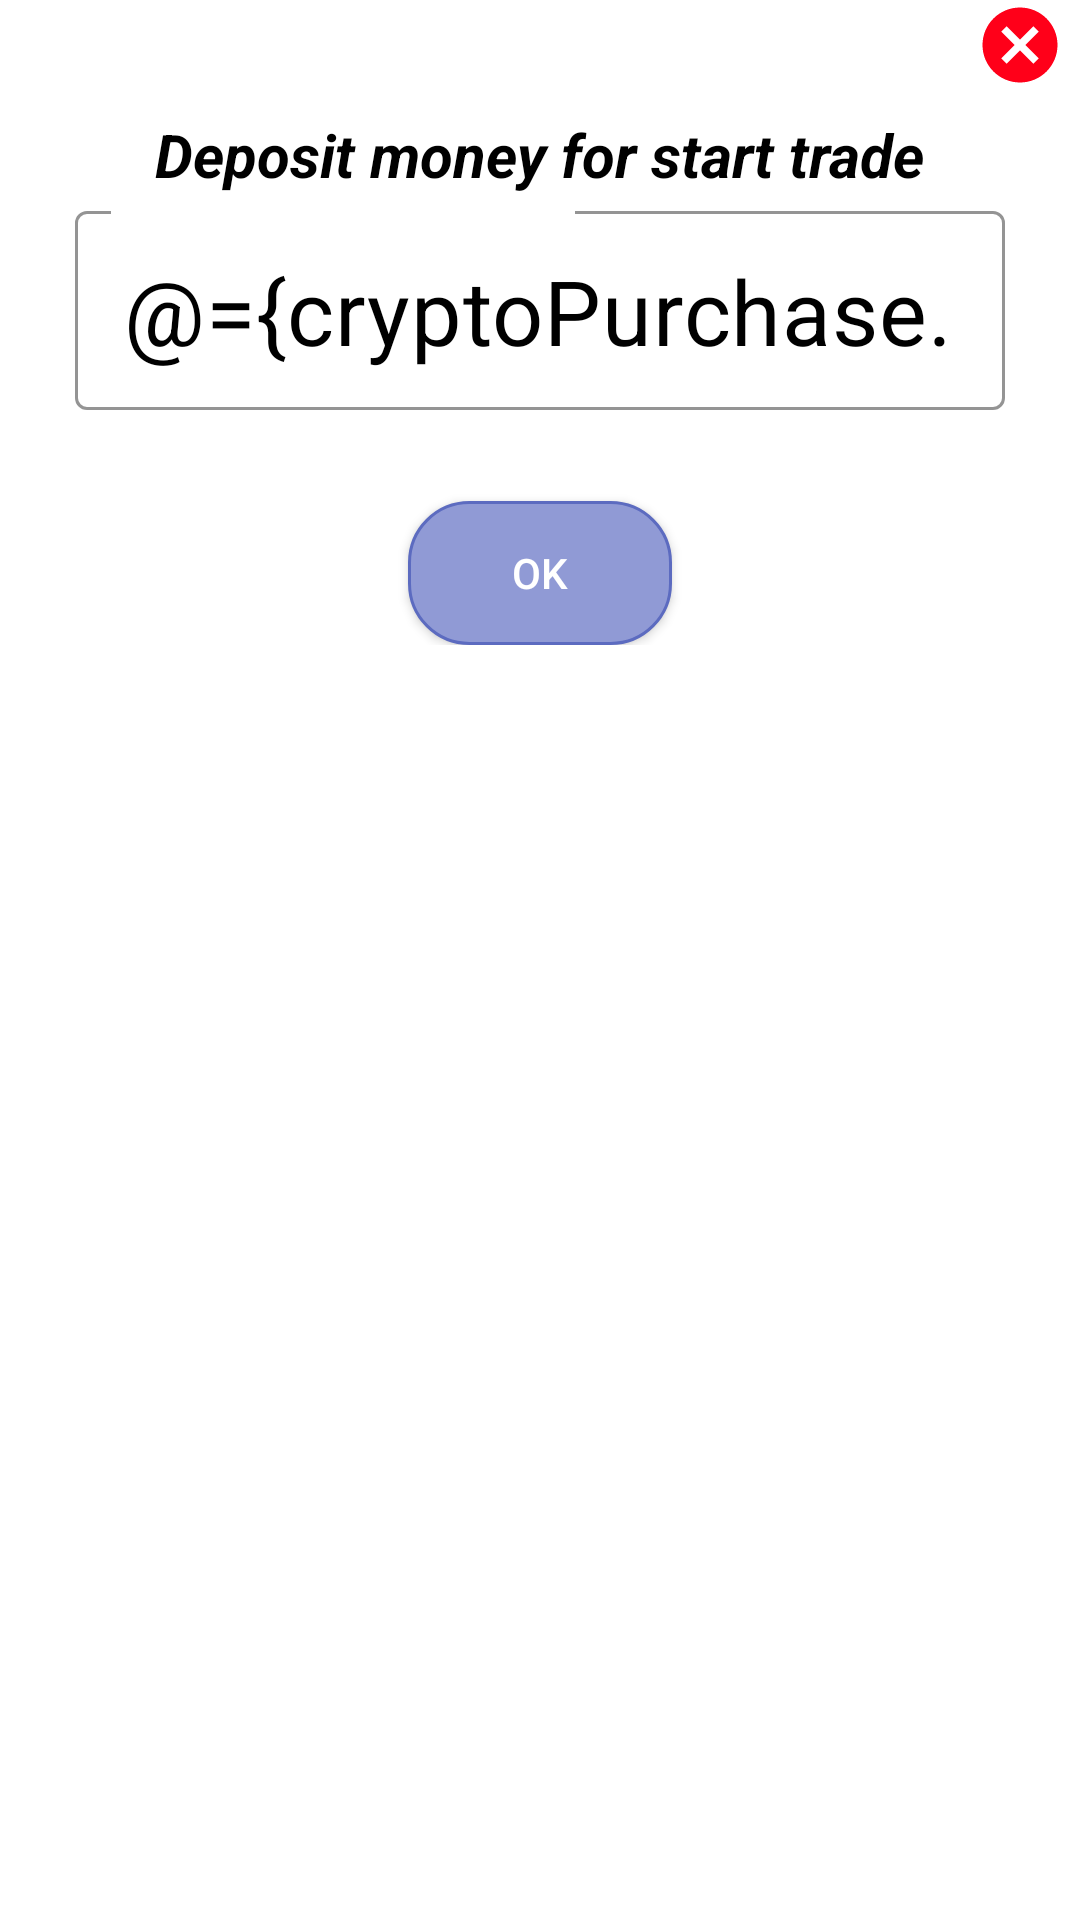

Named icons in this screenshot (1080 × 1920) and their centers, [x,y]:
cancel: [1020,45]
